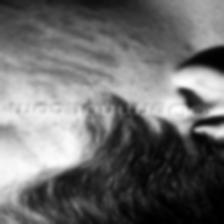Toxin: (0, 19, 140, 98), (8, 119, 73, 158)
